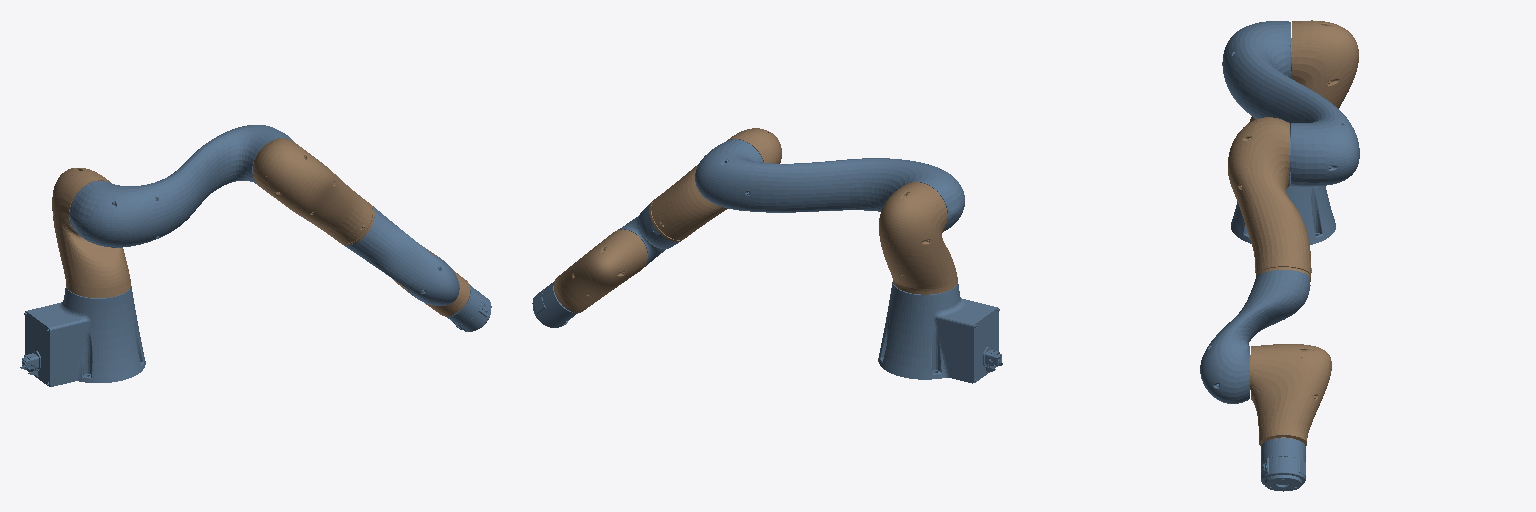
The robot description file, URDF, robot "hsr_co605":
<robot
  name="hsr_co605">

  <link
    name="robot_base_link">
    <inertial>
      <origin
        xyz="-0.021912 3.5206E-07 0.072666"
        rpy="0 0 0" />
      <mass
        value="3.5836" />
      <inertia
        ixx="2.9136E-05"
        ixy="-2.1811E-09"
        ixz="-0.00010967"
        iyy="0.00060536"
        iyz="-4.5389E-10"
        izz="0.000578" />
    </inertial>
    <visual>
      <origin
        xyz="0 0 0"
        rpy="0 0 0" />
      <geometry>
        <mesh
          filename="package://hsr_description/meshes/co605/base_link.STL" />
      </geometry>
      <material
        name="">
        <color
          rgba="0.4 0.5 0.6 1" />
      </material>
    </visual>
    <collision>
      <origin
        xyz="0 0 0"
        rpy="0 0 0" />
      <geometry>
        <mesh
          filename="package://hsr_description/meshes/co605/base_link.STL" />
      </geometry>
    </collision>
  </link>
  <link
    name="link1">
    <inertial>
      <origin
        xyz="6.6053E-07 -0.041864 0.057461"
        rpy="0 0 0" />
      <mass
        value="2.2858" />
      <inertia
        ixx="0.0028736"
        ixy="-1.2977E-08"
        ixz="-1.1421E-08"
        iyy="0.0012558"
        iyz="-0.0014242"
        izz="0.001619" />
    </inertial>
    <visual>
      <origin
        xyz="0 0 0"
        rpy="0 0 0" />
      <geometry>
        <mesh
          filename="package://hsr_description/meshes/co605/link1.STL" />
      </geometry>
      <material
        name="">
        <color
          rgba="0.6 0.5 0.4 1" />
      </material>
    </visual>
    <collision>
      <origin
        xyz="0 0 0"
        rpy="0 0 0" />
      <geometry>
        <mesh
          filename="package://hsr_description/meshes/co605/link1.STL" />
      </geometry>
    </collision>
  </link>
  <joint
    name="joint_1"
    type="revolute">
    <origin
      xyz="0 0 0.3215"
      rpy="-3.1416 5.9903E-29 -1.4937E-16" />
    <parent
      link="robot_base_link" />
    <child
      link="link1" />
    <axis
      xyz="0 0 -1" />
    <limit
      lower="-3.490658503988"
      upper="3.490658503988"
      effort="28"
      velocity="3.2" />
    <safety_controller
      soft_upper_limit="3.481931857728"
      soft_lower_limit="-3.481931857728"
      k_position="100"
      k_velocity="10" />
  </joint>
  <link
    name="link2">
    <inertial>
      <origin
        xyz="1.0568E-05 -0.1934 0.0072764"
        rpy="0 0 0" />
      <mass
        value="3.9796" />
      <inertia
        ixx="0.024928"
        ixy="-9.3143E-07"
        ixz="4.2908E-07"
        iyy="0.0049988"
        iyz="0.0099684"
        izz="0.019932" />
    </inertial>
    <visual>
      <origin
        xyz="0 0 0"
        rpy="0 0 0" />
      <geometry>
        <mesh
          filename="package://hsr_description/meshes/co605/link2.STL" />
      </geometry>
      <material
        name="">
        <color
          rgba="0.4 0.5 0.6 1" />
      </material>
    </visual>
    <collision>
      <origin
        xyz="0 0 0"
        rpy="0 0 0" />
      <geometry>
        <mesh
          filename="package://hsr_description/meshes/co605/link2.STL" />
      </geometry>
    </collision>
  </link>
  <joint
    name="joint_2"
    type="revolute">
    <origin
      xyz="0 0 0"
      rpy="1.5708 -1.5708 0" />
    <parent
      link="link1" />
    <child
      link="link2" />
    <axis
      xyz="0 0 1" />
    <limit
      lower="-2.268928027592"
      upper="1"
      effort="28"
      velocity="3.2" />
    <safety_controller
      soft_upper_limit="1"
      soft_lower_limit="-2.260201381332"
      k_position="100"
      k_velocity="10" />
  </joint>
  <link
    name="link3">
    <inertial>
      <origin
        xyz="-4.1646E-06 -0.084864 -0.023661"
        rpy="0 0 0" />
      <mass
        value="2.3017" />
      <inertia
        ixx="0.0050619"
        ixy="1.9871E-07"
        ixz="-9.377E-08"
        iyy="0.00080339"
        iyz="0.0014584"
        izz="0.0043189" />
    </inertial>
    <visual>
      <origin
        xyz="0 0 0"
        rpy="0 0 0" />
      <geometry>
        <mesh
          filename="package://hsr_description/meshes/co605/link3.STL" />
      </geometry>
      <material
        name="">
        <color
          rgba="0.6 0.5 0.4 1" />
      </material>
    </visual>
    <collision>
      <origin
        xyz="0 0 0"
        rpy="0 0 0" />
      <geometry>
        <mesh
          filename="package://hsr_description/meshes/co605/link3.STL" />
      </geometry>
    </collision>
  </link>
  <joint
    name="joint_3"
    type="revolute">
    <origin
      xyz="0 -0.4 0"
      rpy="-7.0321E-15 1.0327E-14 -1.5708" />
    <parent
      link="link2" />
    <child
      link="link3" />
    <axis
      xyz="0 0 1" />
    <limit
      lower="1"
      upper="3.665191429188"
      effort="28"
      velocity="3.2" />
    <safety_controller
      soft_upper_limit="3.656464782928"
      soft_lower_limit="0.008726646259"
      k_position="100"
      k_velocity="10" />
  </joint>
  <link
    name="link4">
    <inertial>
      <origin
        xyz="0.058545 -4.4729E-06 0.33207"
        rpy="0 0 0" />
      <mass
        value="1.1696" />
      <inertia
        ixx="0.00052342"
        ixy="-2.9755E-08"
        ixz="-0.0004967"
        iyy="0.00099547"
        iyz="-3.1299E-08"
        izz="0.00047263" />
    </inertial>
    <visual>
      <origin
        xyz="0 0 0"
        rpy="0 0 0" />
      <geometry>
        <mesh
          filename="package://hsr_description/meshes/co605/link4.STL" />
      </geometry>
      <material
        name="">
        <color
          rgba="0.4 0.5 0.6 1" />
      </material>
    </visual>
    <collision>
      <origin
        xyz="0 0 0"
        rpy="0 0 0" />
      <geometry>
        <mesh
          filename="package://hsr_description/meshes/co605/link4.STL" />
      </geometry>
    </collision>
  </link>
  <joint
    name="joint_4"
    type="revolute">
    <origin
      xyz="0 0 0"
      rpy="1.5708 1.5708 0" />
    <parent
      link="link3" />
    <child
      link="link4" />
    <axis
      xyz="0 0 1" />
    <limit
      lower="-3.0"
      upper="3.0"
      effort="28"
      velocity="3.2" />
    <safety_controller
      soft_upper_limit="3.0"
      soft_lower_limit="-3.0"
      k_position="100"
      k_velocity="10" />
  </joint>
  <link
    name="link5">
    <inertial>
      <origin
        xyz="-1.4755E-07 -0.034466 0.0044663"
        rpy="0 0 0" />
      <mass
        value="1.4115" />
      <inertia
        ixx="0.0015897"
        ixy="-6.782E-09"
        ixz="-1.3146E-08"
        iyy="0.0006121"
        iyz="-0.00040625"
        izz="0.00097818" />
    </inertial>
    <visual>
      <origin
        xyz="0 0 0"
        rpy="0 0 0" />
      <geometry>
        <mesh
          filename="package://hsr_description/meshes/co605/link5.STL" />
      </geometry>
      <material
        name="">
        <color
          rgba="0.6 0.5 0.4 1" />
      </material>
    </visual>
    <collision>
      <origin
        xyz="0 0 0"
        rpy="0 0 0" />
      <geometry>
        <mesh
          filename="package://hsr_description/meshes/co605/link5.STL" />
      </geometry>
    </collision>
  </link>
  <joint
    name="joint_5"
    type="revolute">
    <origin
      xyz="0 0 0.4"
      rpy="-1.5708 -3.2281E-16 1.5708" />
    <parent
      link="link4" />
    <child
      link="link5" />
    <axis
      xyz="0 0 1" />
    <limit
      lower="-2.268928027592"
      upper="2.268928027592"
      effort="28"
      velocity="3.2" />
    <safety_controller
      soft_upper_limit="2.260201381332"
      soft_lower_limit="-2.260201381332"
      k_position="100"
      k_velocity="10" />
  </joint>
  <link
    name="link6">
    <inertial>
      <origin
        xyz="-9.6295E-05 0.00016669 -0.035518"
        rpy="0 0 0" />
      <mass
        value="0.30888" />
      <inertia
        ixx="8.8278E-05"
        ixy="-1.1971E-06"
        ixz="3.4899E-07"
        iyy="8.9661E-05"
        iyz="-6.0395E-07"
        izz="5.5013E-06" />
    </inertial>
    <visual>
      <origin
        xyz="0 0 0"
        rpy="0 0 0" />
      <geometry>
        <mesh
          filename="package://hsr_description/meshes/co605/link6.STL" />
      </geometry>
      <material
        name="">
        <color
          rgba="0.4 0.5 0.6 1" />
      </material>
    </visual>
    <collision>
      <origin
        xyz="0 0 0"
        rpy="0 0 0" />
      <geometry>
        <mesh
          filename="package://hsr_description/meshes/co605/link6.STL" />
      </geometry>
    </collision>
  </link>
  <joint
    name="joint_6"
    type="revolute">
    <origin
      xyz="0 -0.205 0"
      rpy="-1.5708 2.7756E-17 -3.1416" />
    <parent
      link="link5" />
    <child
      link="link6" />
    <axis
      xyz="0 0 1" />
    <limit
      lower="-5.1"
      upper="5.1"
      effort="28"
      velocity="3.2" />
    <safety_controller
      soft_upper_limit="5.1"
      soft_lower_limit="-5.1"
      k_position="100"
      k_velocity="10" />
  </joint>
</robot>

--- What the picture shows (computed from the rendered views, not written in the file) ---
Views: 3 orthographic renders of the robot side by side, from view 1: azimuth 30°, elevation 25°; view 2: azimuth 150°, elevation 25°; view 3: azimuth 270°, elevation 25°.
Model hsr_co605 with 7 links and 6 joints (6 revolute), rooted at robot_base_link, posed joints at zero except 1 at the middle of their limits (joint_3 = 2.33).
Visible links, largest first — view 1: link2, robot_base_link, link3, link1, link4, link6, link5; view 2: link2, robot_base_link, link1, link5, link3, link4, link6; view 3: link2, link3, link5, link4, link1, robot_base_link, link6.
Boxes of the visible links, bbox=[...] form: link2: bbox=[69, 125, 293, 247]; robot_base_link: bbox=[20, 286, 145, 386]; link3: bbox=[253, 138, 374, 244]; link1: bbox=[52, 168, 130, 297]; link4: bbox=[344, 206, 459, 305]; link6: bbox=[447, 285, 491, 331]; link5: bbox=[393, 247, 470, 316]; link2: bbox=[695, 139, 964, 231]; robot_base_link: bbox=[878, 282, 1002, 383]; link1: bbox=[879, 182, 957, 294]; link5: bbox=[553, 229, 647, 312]; link3: bbox=[649, 128, 781, 241]; link4: bbox=[618, 203, 680, 266]; link6: bbox=[532, 282, 577, 327]; link2: bbox=[1222, 21, 1359, 186]; link3: bbox=[1228, 117, 1311, 281]; link5: bbox=[1250, 344, 1331, 445]; link4: bbox=[1200, 270, 1310, 403]; link1: bbox=[1249, 20, 1358, 122]; robot_base_link: bbox=[1231, 172, 1335, 244]; link6: bbox=[1261, 438, 1305, 491].
Bounding box of the posed robot: 1.02 × 0.2724 × 0.5003 m (x, y, z).
Meshes: 7 distinct files referenced, 7 mesh visuals loaded (7 binary STL).